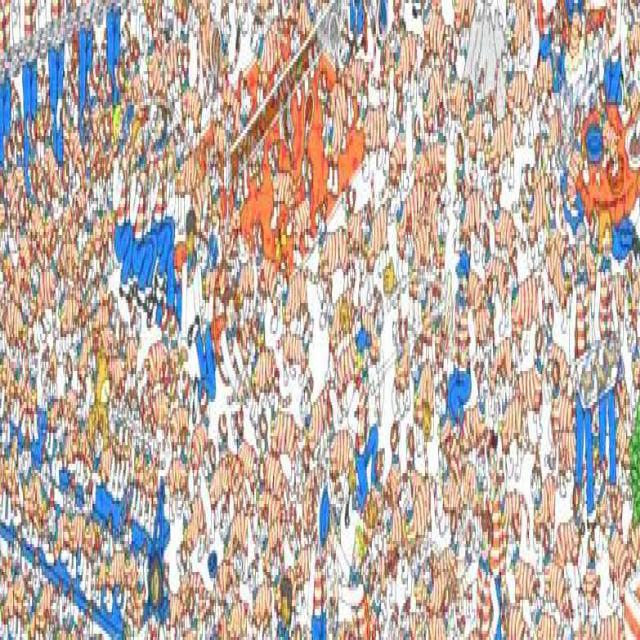waldo: (485, 426, 497, 488)
